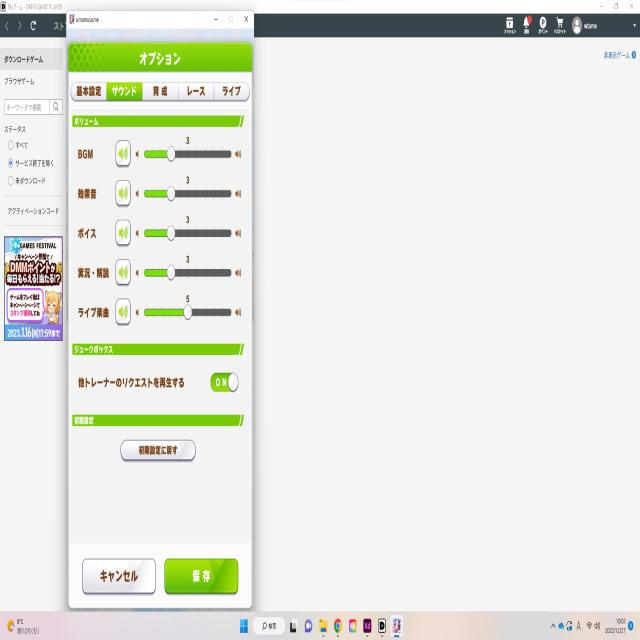radio: (8, 155, 14, 169)
toggle: (210, 374, 239, 392)
